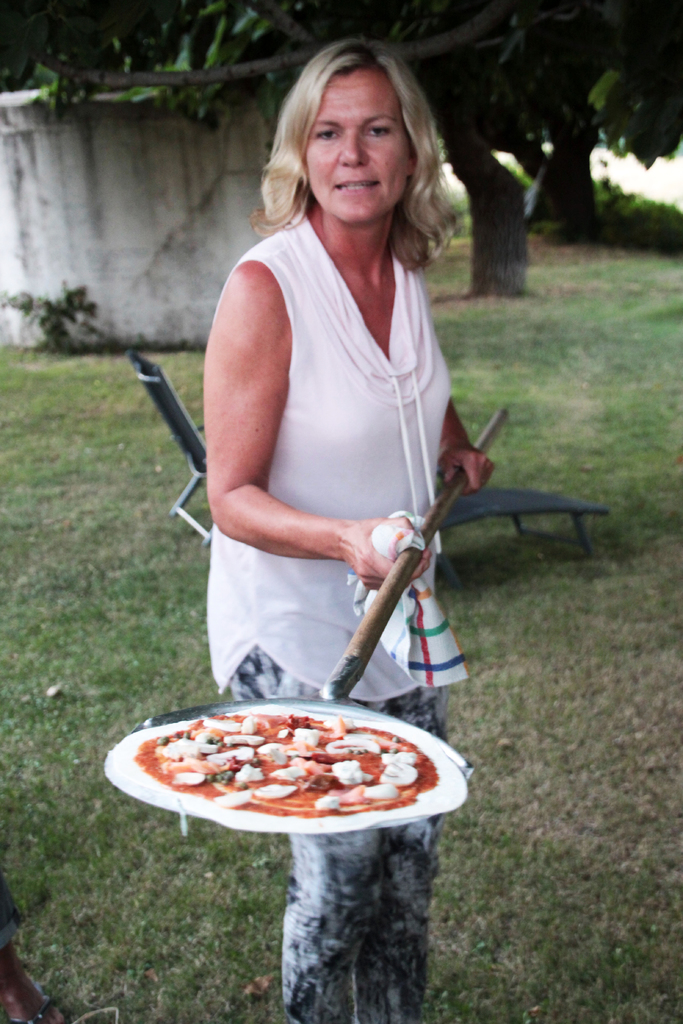Pizza: (101, 707, 467, 837)
